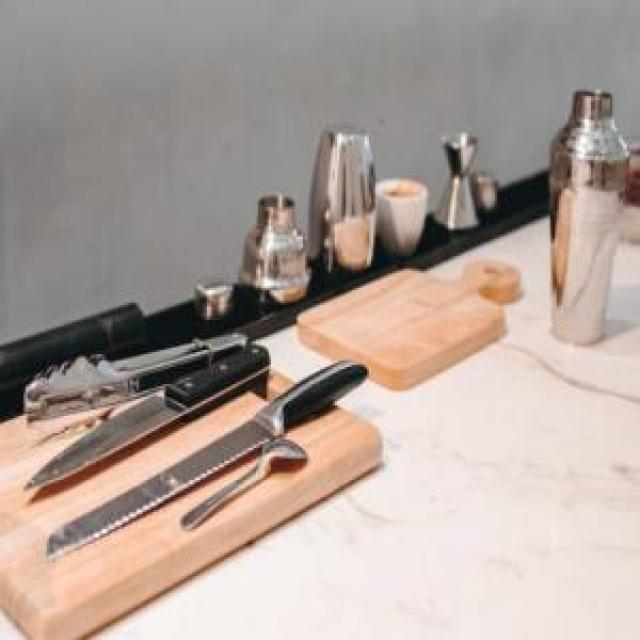knife: (45, 361, 369, 564), (24, 337, 275, 499)
